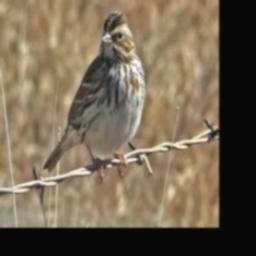Sparrow: (42, 9, 149, 184)
